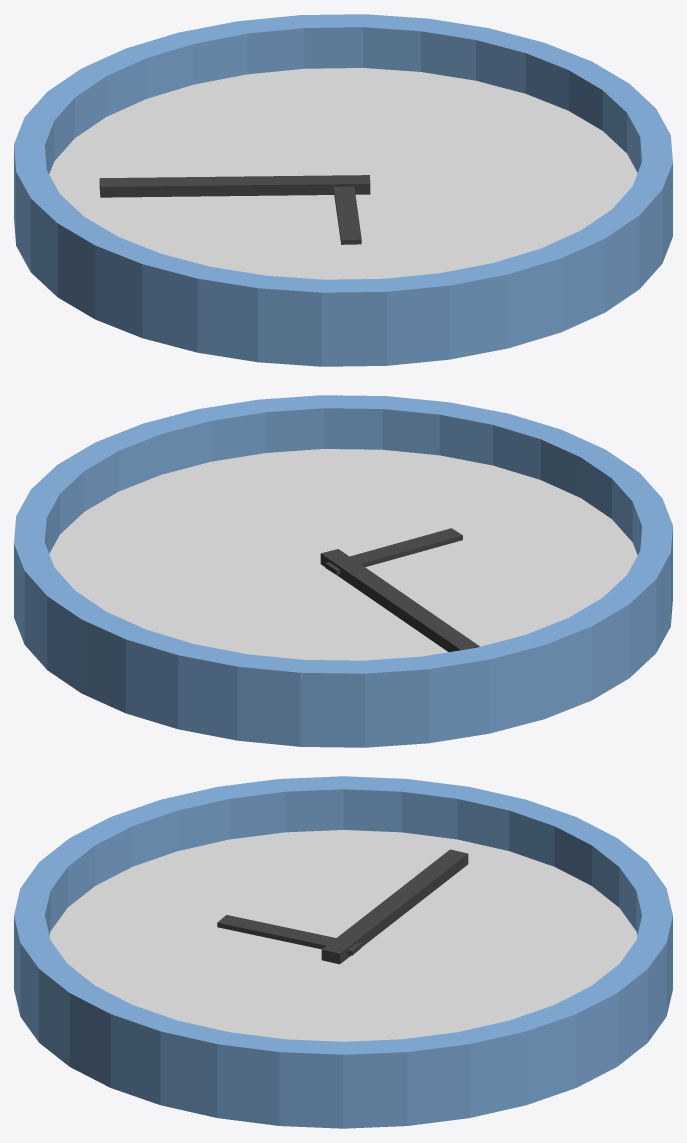
File: Clock.fbx
3 renders of one model, top to bottom at view 1: azimuth 30°, elevation 25°; view 2: azimuth 150°, elevation 25°; view 3: azimuth 270°, elevation 25°, orthographic.
Parts seen in each view (by area): view 1: Clock; view 2: Clock; view 3: Clock.
Part boxes in pixels (x1,y1,x2,y2): Clock: [14, 14, 672, 366]; Clock: [14, 395, 672, 747]; Clock: [14, 776, 672, 1128].
Size of the model in its own units: 200 by 24.75 by 200.
